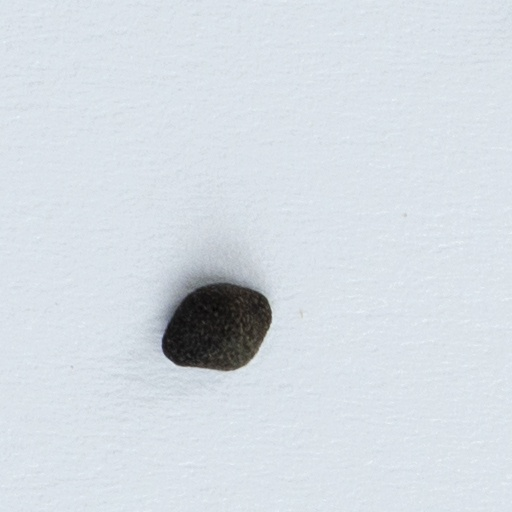Convolvulus-poly: (160, 280, 273, 373)
